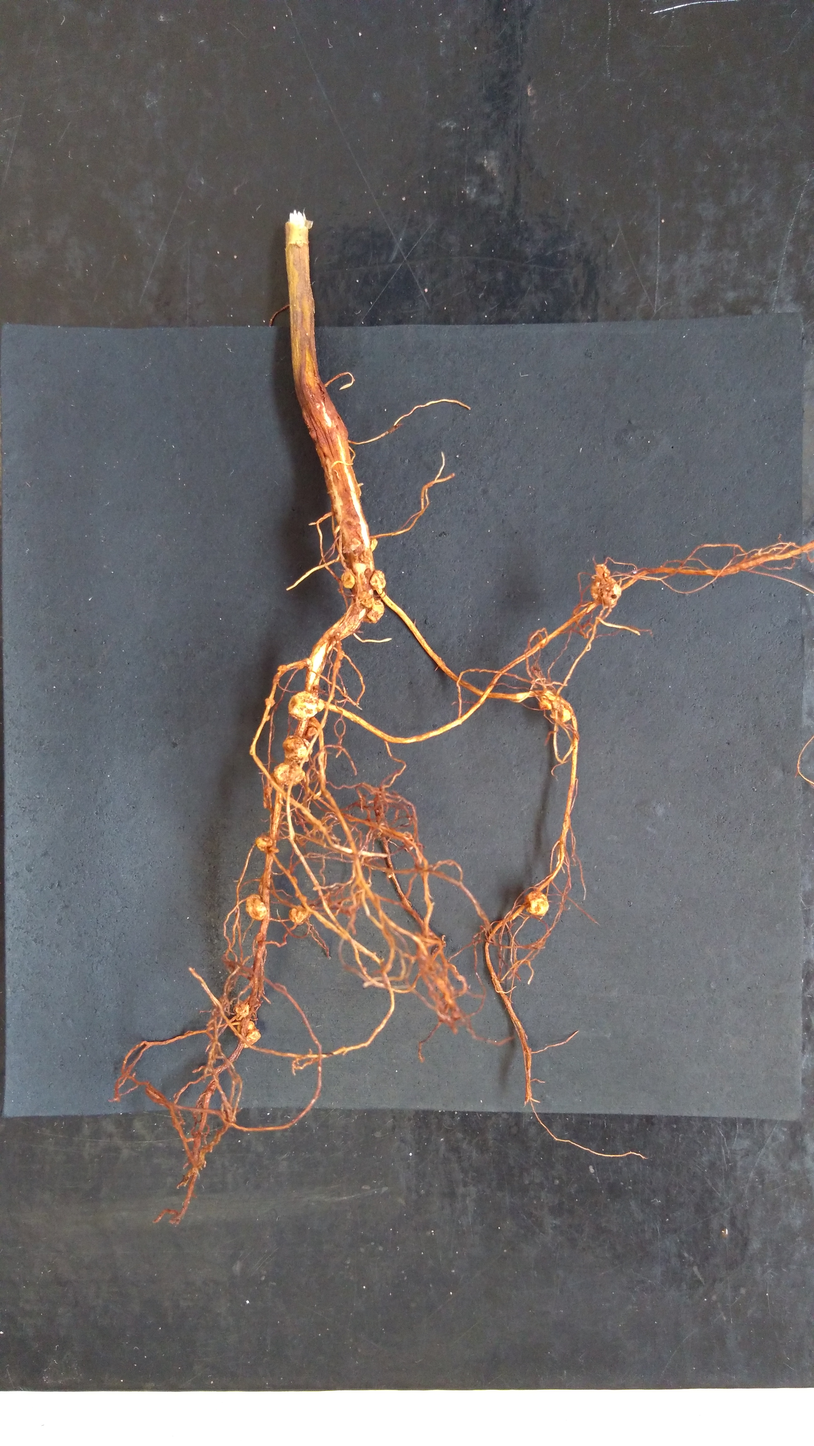nodule: (585, 561, 623, 608), (285, 690, 326, 723), (280, 734, 313, 765), (270, 760, 306, 788), (523, 891, 549, 919), (363, 596, 387, 624), (243, 895, 267, 922), (243, 1020, 262, 1049), (549, 704, 573, 725), (367, 568, 388, 591), (303, 716, 321, 741), (537, 690, 556, 712), (286, 907, 306, 926), (231, 1001, 251, 1020), (254, 835, 274, 853), (340, 570, 357, 591), (361, 596, 375, 610), (369, 537, 380, 554), (264, 697, 277, 707), (276, 664, 287, 671), (265, 715, 271, 721)
